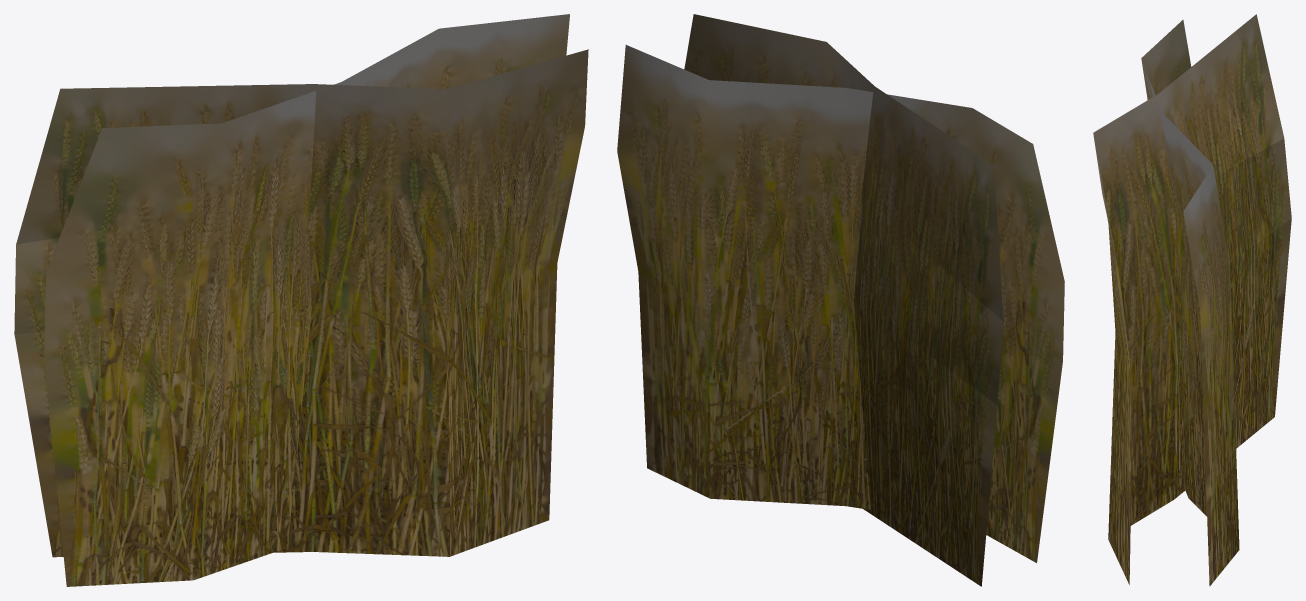
Rendered from Grass.FBX.
3 renders of one model, left to right at view 1: azimuth 30°, elevation 25°; view 2: azimuth 150°, elevation 25°; view 3: azimuth 270°, elevation 25°, orthographic. The views are drawn at different scales.
Visible parts, largest first — view 1: Grass_Tall; view 2: Grass_Tall; view 3: Grass_Tall.
Part boxes in pixels (x1,y1,x2,y2): Grass_Tall: [14, 14, 588, 586]; Grass_Tall: [617, 14, 1064, 586]; Grass_Tall: [1093, 14, 1291, 586].
Bounding box in the file's own units: 72.04 × 63.89 × 28.62.
